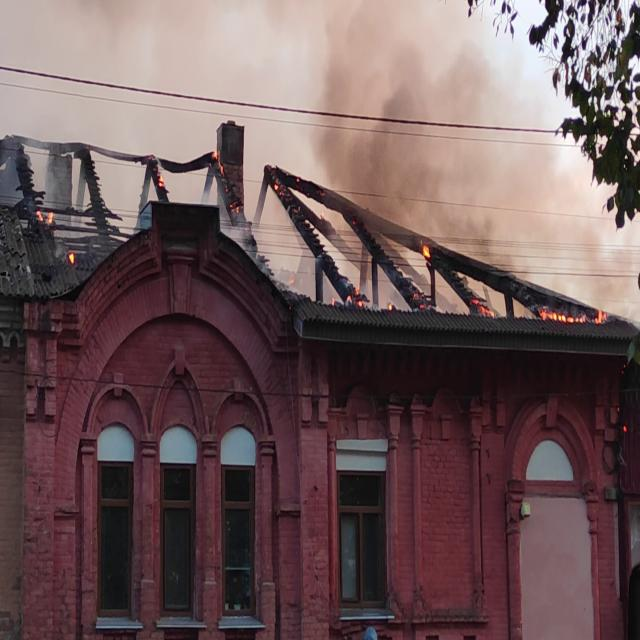fire: (532, 286, 618, 328), (208, 144, 246, 221)
smoke: (321, 25, 437, 227)
